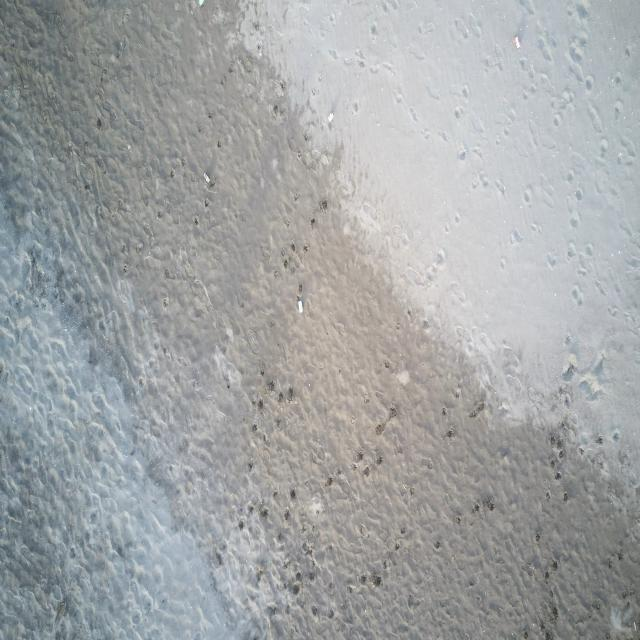tin-and-aluminum-cans: (196, 0, 207, 10), (514, 36, 521, 50), (203, 172, 210, 184), (327, 111, 334, 123), (298, 300, 303, 314)
